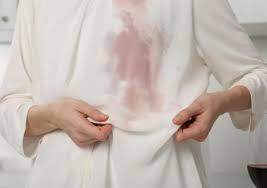oil: (113, 22, 166, 122), (114, 1, 144, 20)
